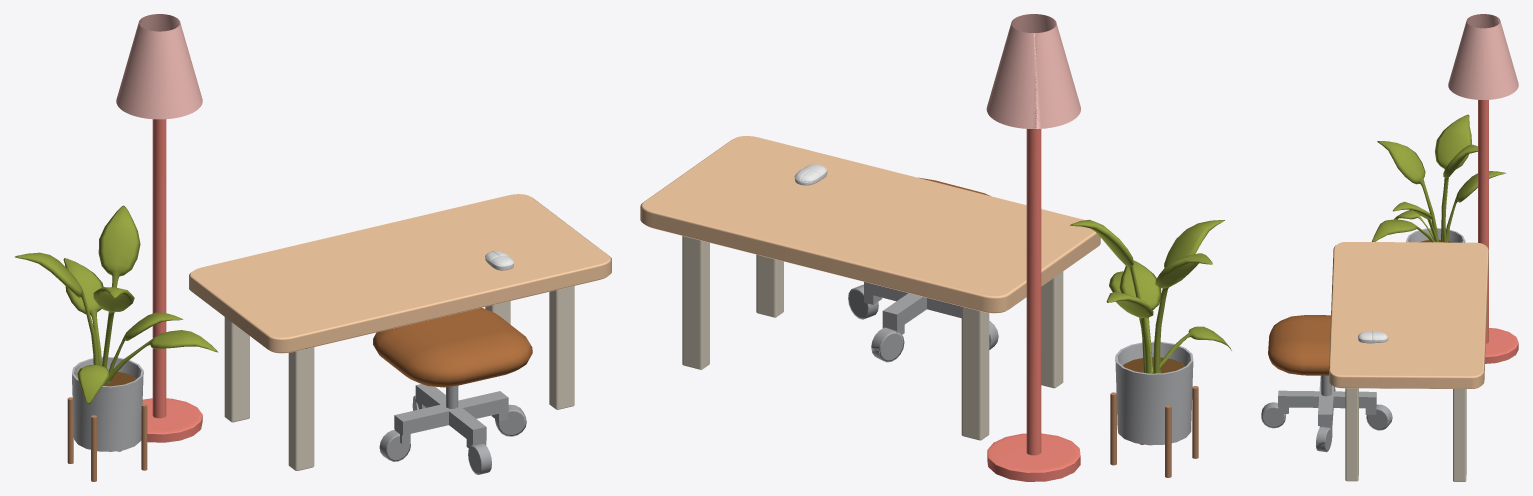
3 renders of one model, left to right at view 1: azimuth 30°, elevation 25°; view 2: azimuth 150°, elevation 25°; view 3: azimuth 270°, elevation 25°, orthographic. The views are drawn at different scales.
Parts seen in each view (by area): view 1: desk table, chair sit, plant, lamp head, lamp stand, flowerpot, chair base, leg 4, leg 3, leg 2, wheel.001, wheel (+1 smaller); view 2: desk table, lamp stand, lamp head, plant, flowerpot, leg 2, leg 1, leg 4, chair base, leg 3, wheel.003, wheel; view 3: desk table, plant, lamp head, chair sit, lamp stand, chair base, leg 3, leg 1, wheel.002, wheel.003, flowerpot, wheel (+1 smaller).
Boxes of the visible parts, x1,y1,x2,y2 form: desk table: [189, 194, 611, 353]; chair sit: [373, 307, 532, 387]; plant: [15, 205, 217, 404]; lamp head: [116, 14, 202, 119]; lamp stand: [140, 119, 202, 442]; flowerpot: [72, 357, 143, 451]; chair base: [394, 384, 508, 448]; leg 4: [288, 347, 314, 470]; leg 3: [549, 286, 574, 409]; leg 2: [224, 317, 249, 422]; wheel.001: [379, 430, 410, 461]; wheel: [495, 404, 526, 436]; desk table: [640, 136, 1100, 313]; lamp stand: [987, 129, 1080, 481]; lamp head: [986, 14, 1080, 128]; plant: [1070, 219, 1231, 373]; flowerpot: [1115, 341, 1193, 445]; leg 2: [961, 306, 989, 440]; leg 1: [682, 236, 709, 369]; leg 4: [1041, 271, 1063, 388]; chair base: [864, 282, 961, 334]; leg 3: [756, 254, 783, 317]; wheel.003: [871, 327, 904, 362]; wheel: [848, 284, 878, 319]; desk table: [1329, 242, 1488, 388]; plant: [1371, 114, 1506, 242]; lamp head: [1448, 14, 1518, 99]; chair sit: [1268, 315, 1330, 375]; lamp stand: [1478, 100, 1518, 363]; chair base: [1278, 376, 1376, 433]; leg 3: [1345, 388, 1358, 481]; leg 1: [1453, 389, 1466, 481]; wheel.002: [1261, 402, 1286, 428]; wheel.003: [1366, 404, 1392, 430]; flowerpot: [1406, 228, 1465, 242]; wheel: [1316, 426, 1332, 452].
Bounding box in the file's own units: 3.3 × 2.44 × 1.73.
